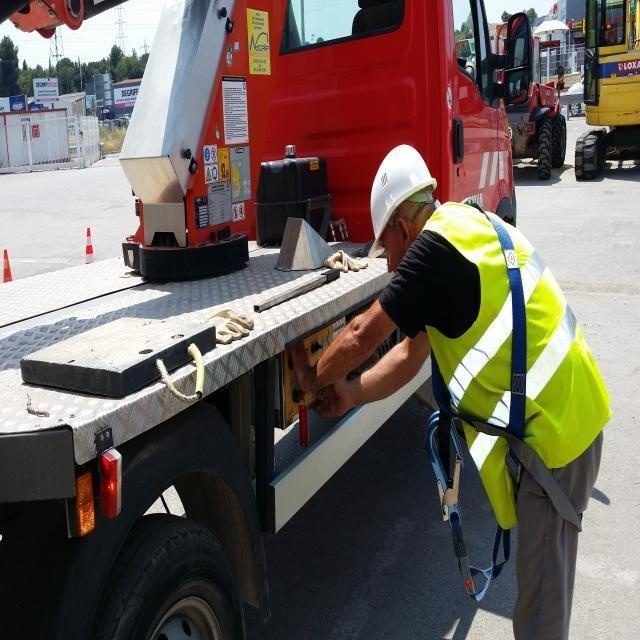Arnes_seguridad: (431, 203, 599, 514)
